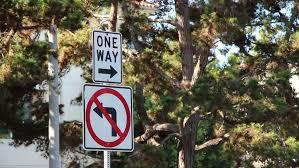no_left_turn: (85, 86, 131, 146)
